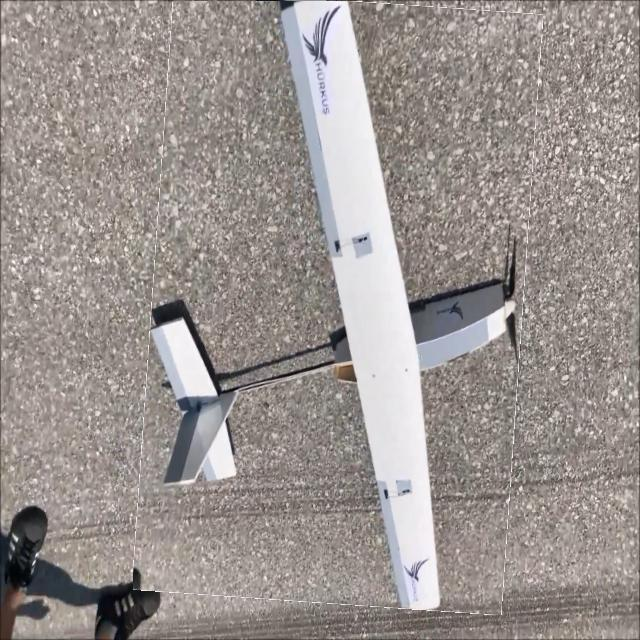iha: (141, 0, 506, 613)
